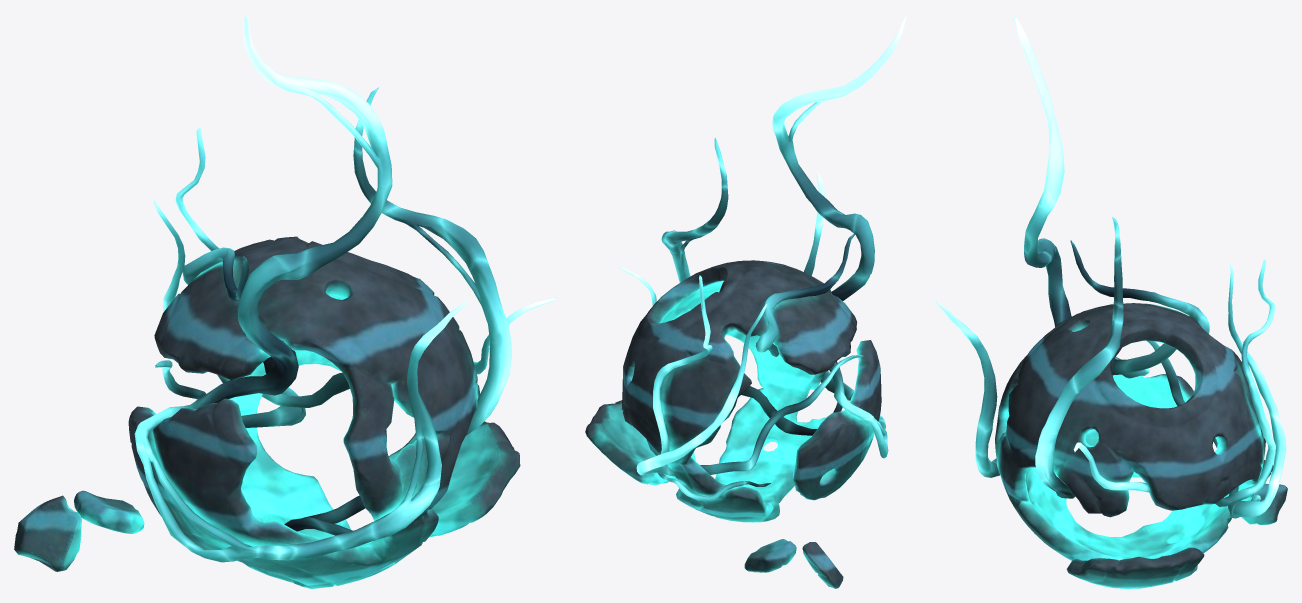
The model's file is caos_drs_chaospot_01c_soma_v36.glb.
3 renders of one model, left to right at view 1: azimuth 30°, elevation 25°; view 2: azimuth 150°, elevation 25°; view 3: azimuth 270°, elevation 25°, orthographic. The views are drawn at different scales.
Visible parts, largest first — view 1: caos_drs_chaospot_01c; view 2: caos_drs_chaospot_01c; view 3: caos_drs_chaospot_01c.
Part boxes in pixels (left/top/right/bottom): caos_drs_chaospot_01c: left=14, top=14, right=556, bottom=588; caos_drs_chaospot_01c: left=585, top=14, right=907, bottom=588; caos_drs_chaospot_01c: left=936, top=14, right=1287, bottom=588.
Size of the model in its own units: 2.01 by 3 by 1.9.
Materials: 2 (2 with a texture image).
